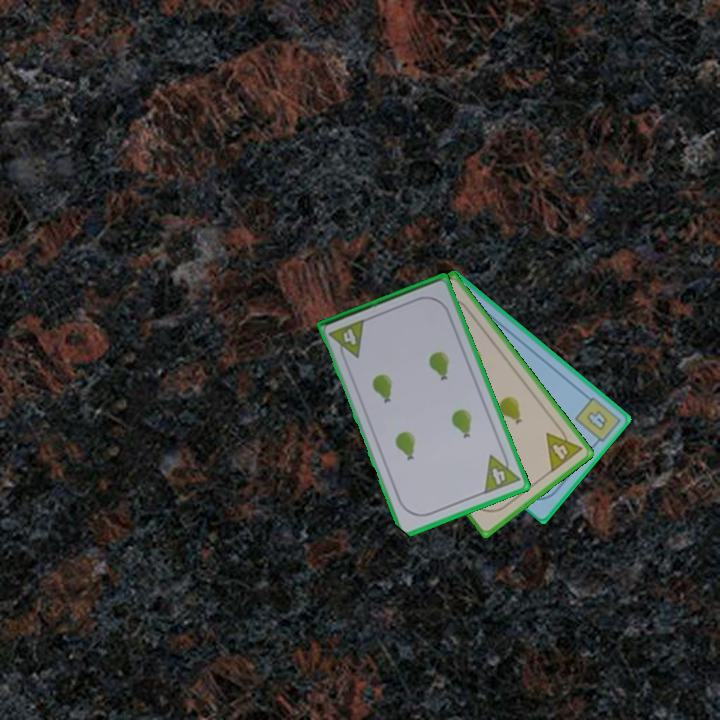4b: (571, 393, 621, 449)
4p: (542, 421, 585, 475), (480, 447, 523, 497), (326, 316, 368, 364)
